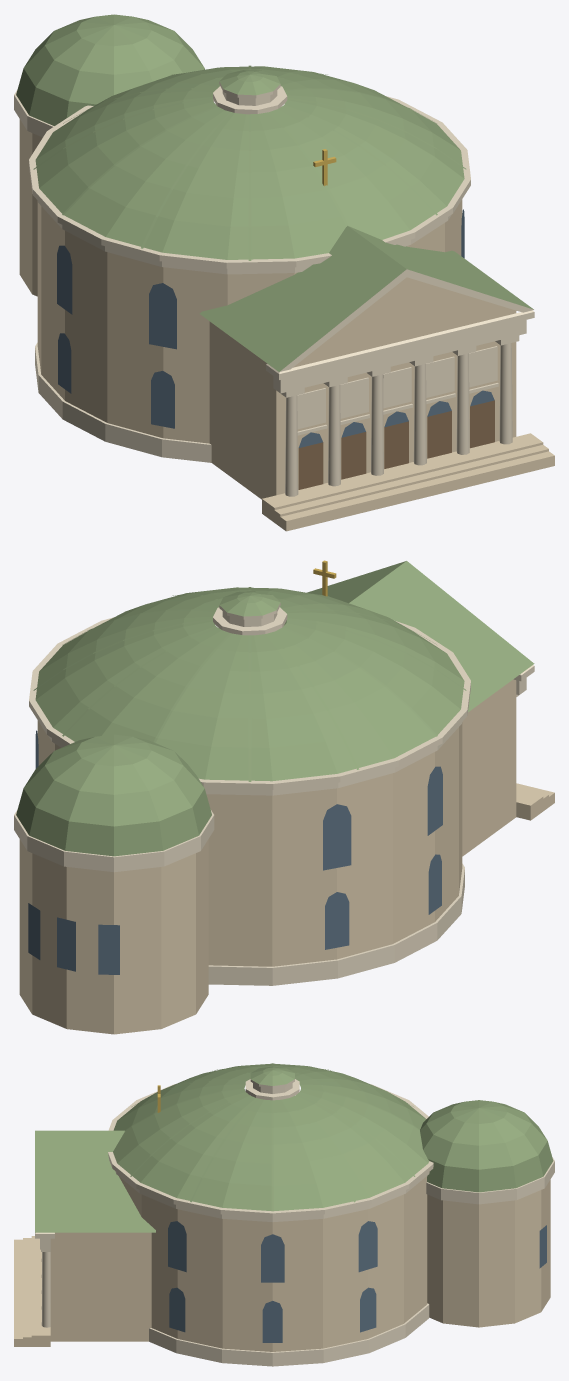
Rendered from berlin-st-hedwigs.glb.
3 views of the same model, one above another, from view 1: azimuth 30°, elevation 25°; view 2: azimuth 150°, elevation 25°; view 3: azimuth 270°, elevation 25° (orthographic). The views are drawn at different scales.
Visible parts, largest first — view 1: St. Hedwig's Cathedral; view 2: St. Hedwig's Cathedral; view 3: St. Hedwig's Cathedral.
Boxes of the visible parts, <box> form: St. Hedwig's Cathedral: <box>14,14,554,531</box>; St. Hedwig's Cathedral: <box>14,560,554,1034</box>; St. Hedwig's Cathedral: <box>14,1063,554,1366</box>.
Size of the model in its own units: 40.4 by 30 by 64.8.
